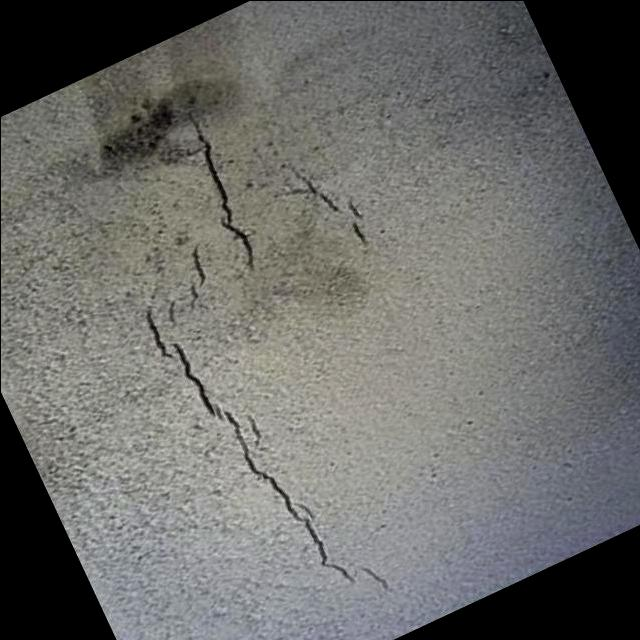defect: (141, 241, 394, 591), (185, 106, 258, 269), (297, 171, 375, 248)
